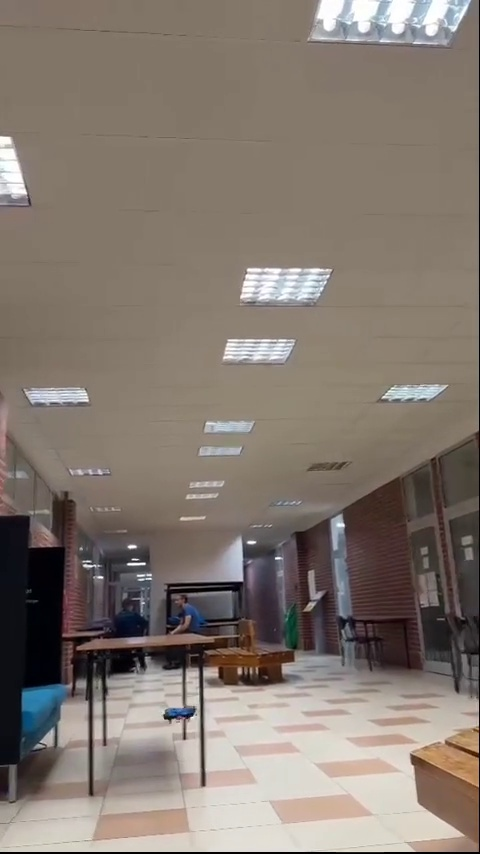drone: (163, 706, 198, 721)
no vest: (171, 594, 205, 637), (112, 594, 146, 635)
